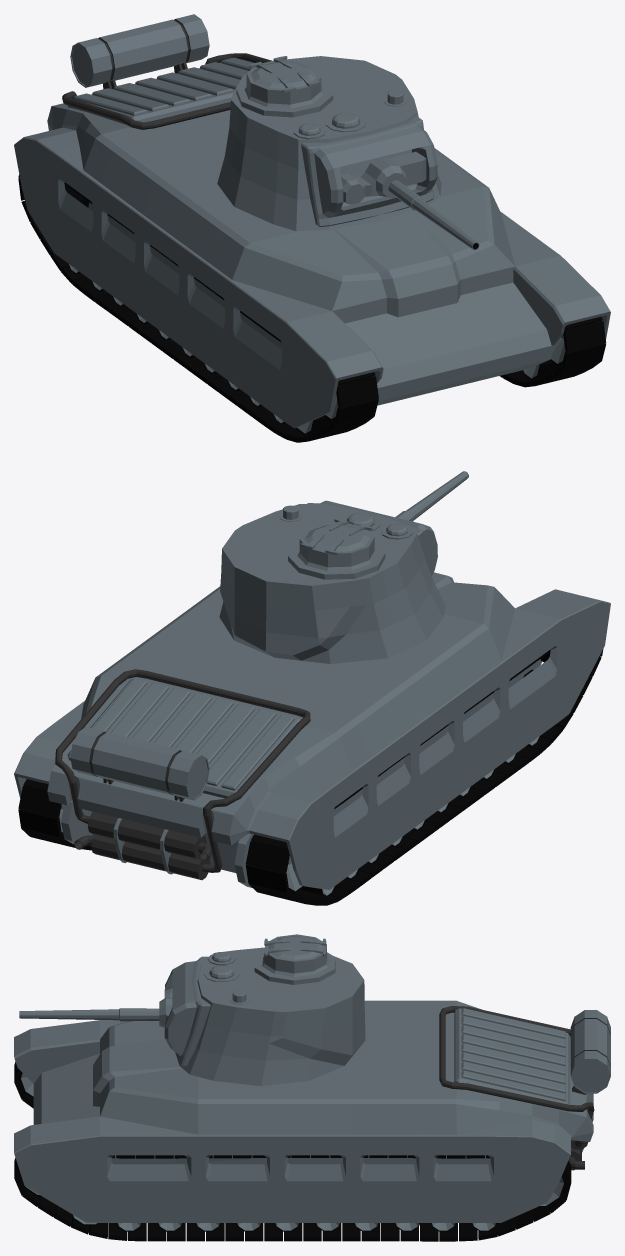
3 renders of one model, top to bottom at view 1: azimuth 30°, elevation 25°; view 2: azimuth 150°, elevation 25°; view 3: azimuth 270°, elevation 25°, orthographic. The views are drawn at different scales.
Visible parts, largest first — view 1: Plane.002, Cylinder.011, Cylinder.010, Cylinder.014, Cylinder.013, Cylinder.012; view 2: Plane.002, Cylinder.011, Cylinder.010, Cylinder.014, Cylinder.012, Cylinder.013; view 3: Plane.002, Cylinder.011, Cylinder.010, Cylinder.014, Cylinder.013, Cylinder.012.
Part boxes in pixels (box(x1,y1,x2,y2)): Plane.002: box(14, 14, 610, 428); Cylinder.011: box(217, 56, 441, 231); Cylinder.010: box(18, 174, 606, 442); Cylinder.014: box(340, 151, 479, 249); Cylinder.013: box(255, 68, 316, 88); Cylinder.012: box(251, 58, 312, 81); Plane.002: box(14, 572, 610, 889); Cylinder.011: box(219, 500, 445, 663); Cylinder.010: box(18, 649, 603, 905); Cylinder.014: box(395, 471, 468, 521); Cylinder.012: box(304, 530, 364, 551); Cylinder.013: box(310, 521, 370, 545); Plane.002: box(14, 1000, 610, 1222); Cylinder.011: box(164, 934, 365, 1086); Cylinder.010: box(14, 1062, 571, 1241); Cylinder.014: box(19, 988, 172, 1027); Cylinder.013: box(268, 936, 296, 959); Cylinder.012: box(294, 936, 323, 959).
Size of the model in its own units: 309 by 285 by 671.
